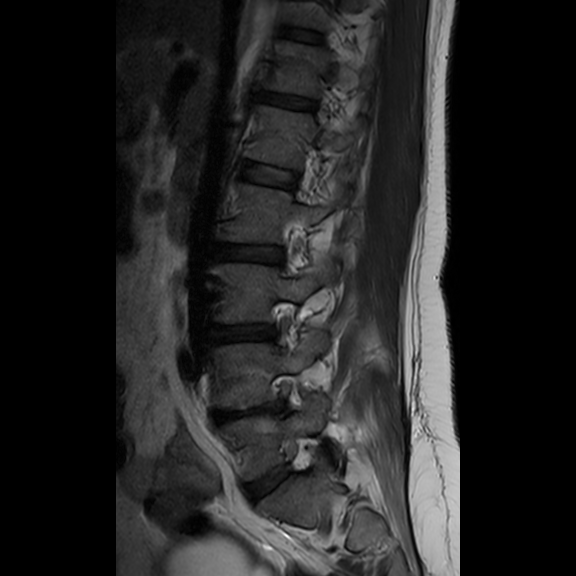RFS0: (262, 297, 314, 358)
RFS1: (257, 371, 309, 432)
